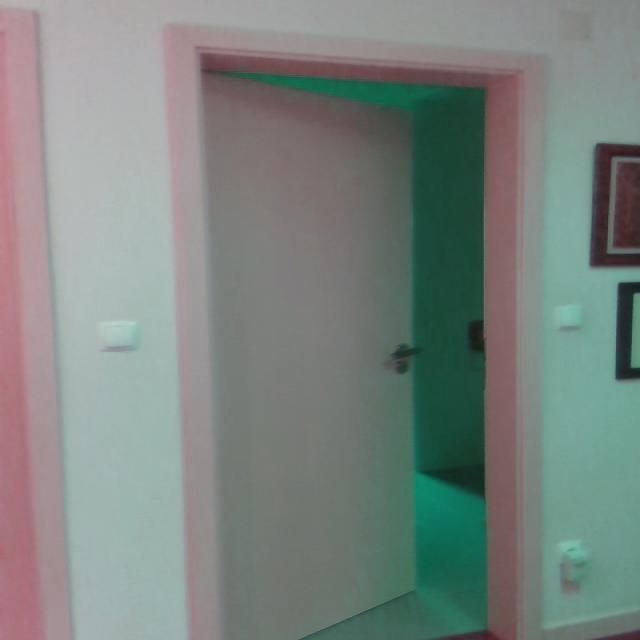door: (191, 26, 423, 640)
